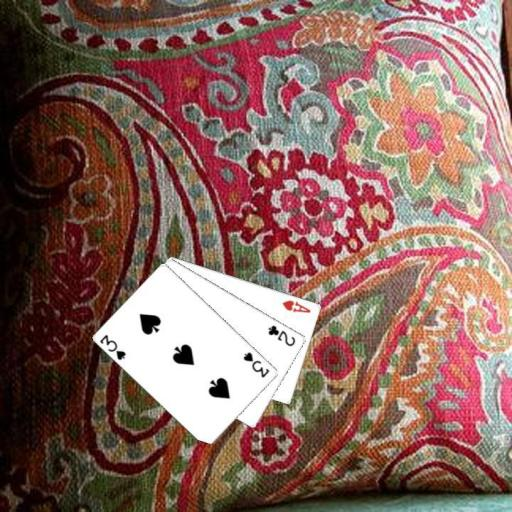2C: (265, 322, 297, 348)
3S: (240, 348, 271, 379), (97, 332, 128, 362)
AH: (280, 297, 312, 315)
